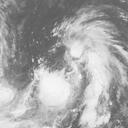cyclone: (32, 19, 116, 112)
